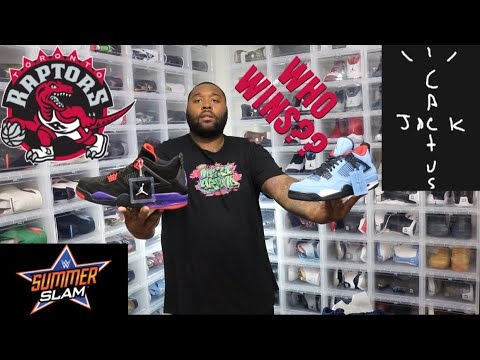Air Jordan 4 Raptors: (75, 142, 191, 213)
